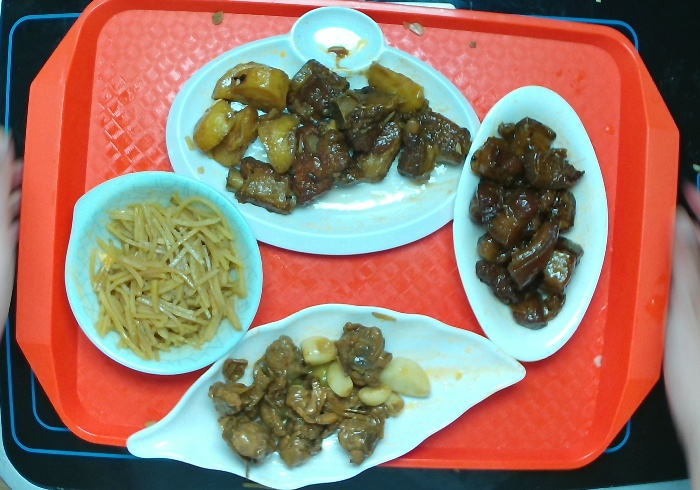RJxy-Bai_Se_Tuo_Yuan: (450, 77, 614, 365)
RJxy-Shu_Ye_Pan: (120, 295, 530, 481)
RJxy-Xiao_Jiao_Yuan_Wan: (69, 168, 265, 369)
RJxy-Zhan_Liao_Pan: (163, 6, 482, 258)
